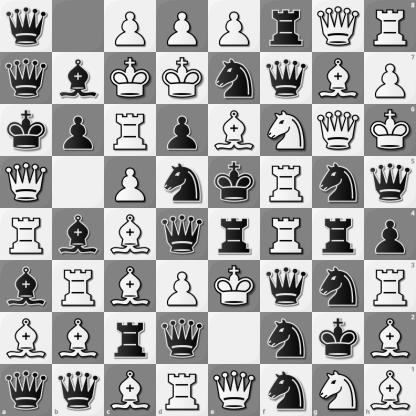B: (104, 364, 156, 416), (364, 312, 416, 364), (364, 364, 416, 416), (1, 313, 52, 364), (53, 313, 104, 364), (105, 209, 156, 260), (105, 261, 156, 312), (209, 105, 260, 156), (313, 53, 364, 104)
K: (364, 104, 416, 156), (105, 53, 156, 104), (157, 53, 208, 104), (209, 261, 260, 312)
N: (312, 364, 364, 416), (261, 105, 312, 156)
P: (364, 52, 416, 104), (105, 1, 156, 52), (105, 157, 156, 208), (157, 1, 208, 52), (157, 261, 208, 312), (209, 1, 260, 52)
Q: (209, 364, 260, 416), (1, 157, 52, 208), (313, 1, 364, 52), (313, 105, 364, 156)
R: (156, 364, 209, 416), (364, 0, 416, 52), (364, 260, 416, 312), (1, 209, 52, 260), (53, 261, 104, 312), (105, 105, 156, 156), (261, 157, 312, 208), (261, 209, 312, 260)
b: (1, 261, 52, 312), (53, 53, 104, 104), (53, 209, 104, 260)
board: (0, 0, 415, 415)
k: (1, 105, 52, 156), (209, 157, 260, 208), (313, 313, 364, 364)
n: (260, 364, 312, 416), (157, 157, 208, 208), (209, 53, 260, 104), (261, 313, 312, 364), (313, 157, 364, 208), (313, 261, 364, 312)
p: (364, 209, 416, 260), (53, 105, 104, 156), (157, 105, 208, 156)
q: (364, 156, 416, 209), (0, 364, 52, 416), (52, 364, 104, 416), (1, 1, 52, 52), (1, 53, 52, 104), (157, 209, 208, 260), (157, 313, 208, 364), (261, 53, 312, 104), (261, 261, 312, 312)
r: (105, 313, 156, 364), (209, 209, 260, 260), (261, 1, 312, 52), (313, 209, 364, 260)
